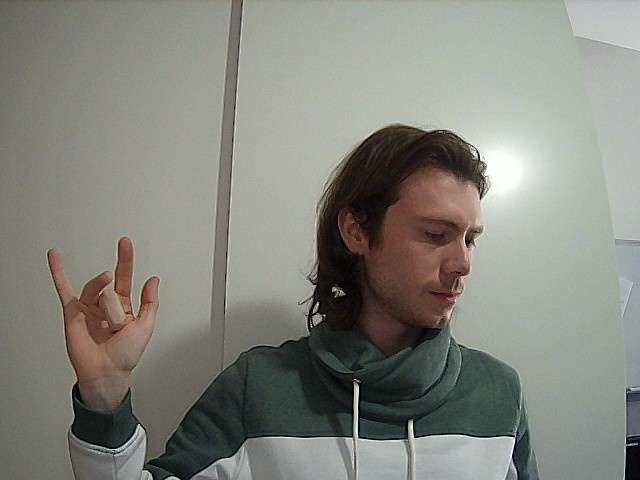reset: (30, 230, 174, 385)
